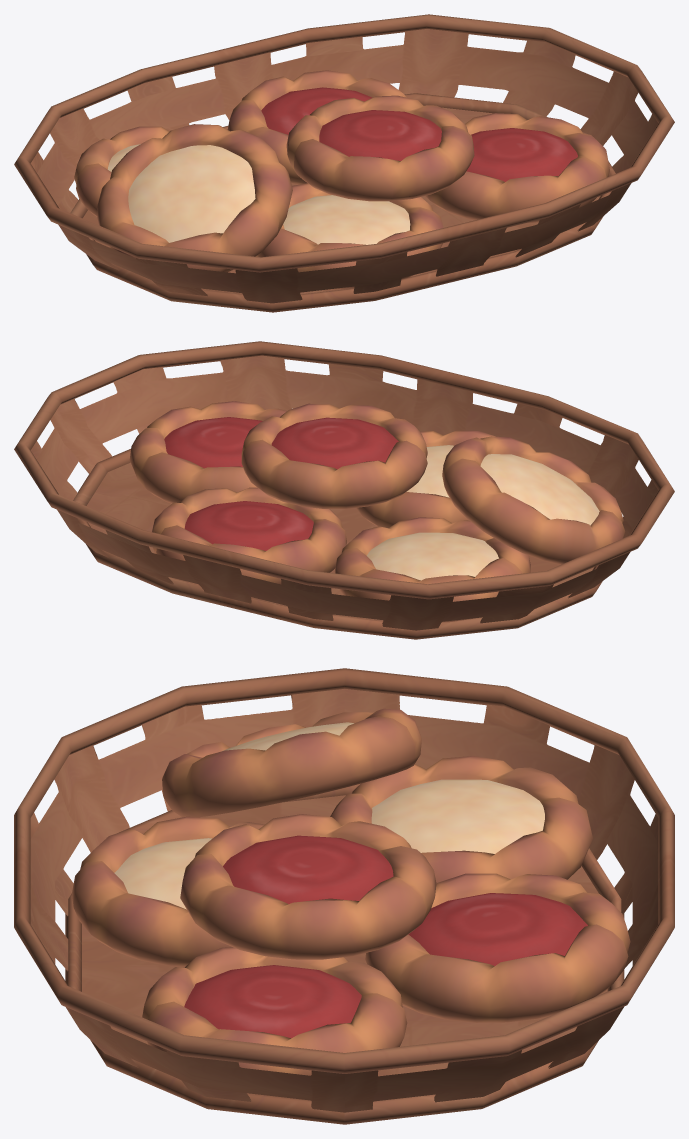
The model's file is vatrushka_basket.fbx.
3 renders of one model, top to bottom at view 1: azimuth 30°, elevation 25°; view 2: azimuth 150°, elevation 25°; view 3: azimuth 270°, elevation 25°, orthographic. The views are drawn at different scales.
Visible parts, largest first — view 1: cheese_cakes_in_basket.004; view 2: cheese_cakes_in_basket.004; view 3: cheese_cakes_in_basket.004.
Part boxes in pixels (box(x1,y1,x2,y2)): cheese_cakes_in_basket.004: box(14, 14, 674, 312); cheese_cakes_in_basket.004: box(14, 341, 674, 639); cheese_cakes_in_basket.004: box(14, 668, 674, 1124).
Bounding box in the file's own units: 46.9 × 8.34 × 33.29.
